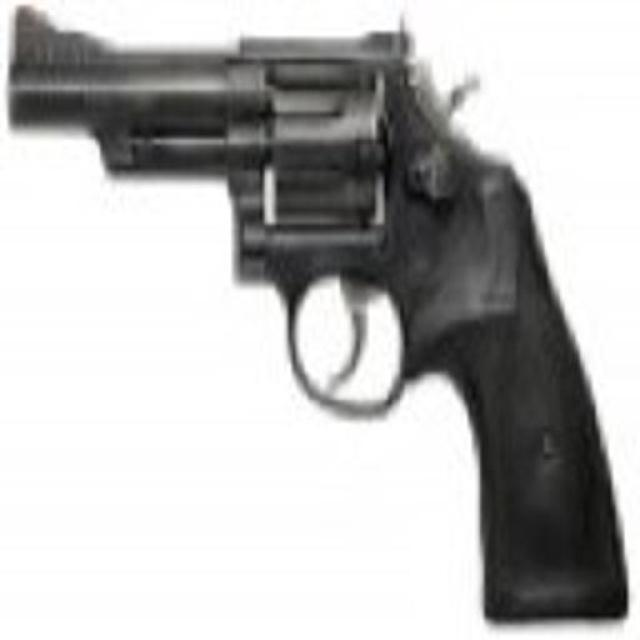pistol: (15, 5, 631, 629)
